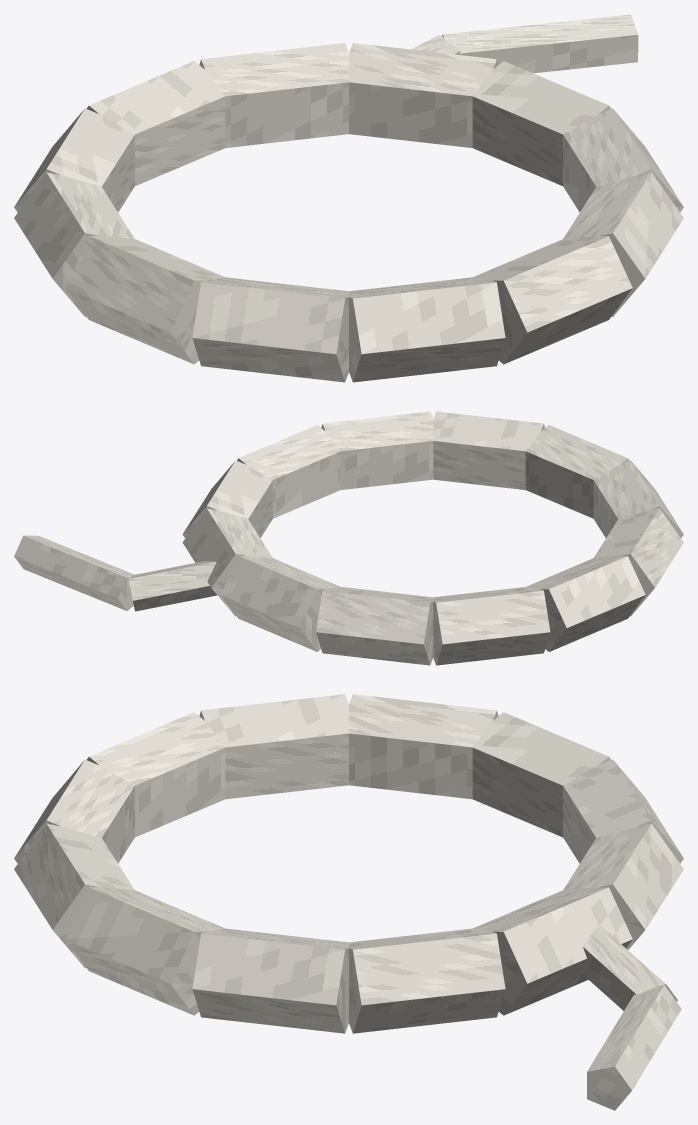
File: judo_belt_white.glb
3 renders of one model, top to bottom at view 1: azimuth 30°, elevation 25°; view 2: azimuth 150°, elevation 25°; view 3: azimuth 270°, elevation 25°, orthographic. The views are drawn at different scales.
Parts seen in each view (by area): view 1: block_rolled cloth sash3, block_rolled cloth sash4, block_rolled cloth sash9, block_rolled cloth sash10, block_rolled cloth sash2, block_rolled cloth sash5, block_rolled cloth sash8, block_rolled cloth sash11, block_free end 1, block_rolled cloth sash1, block_rolled cloth sash6, block_rolled cloth sash0 (+1 smaller); view 2: block_rolled cloth sash8, block_rolled cloth sash7, block_rolled cloth sash1, block_rolled cloth sash2, block_rolled cloth sash9, block_rolled cloth sash6, block_rolled cloth sash3, block_rolled cloth sash0, block_free end 1, block_rolled cloth sash5, block_rolled cloth sash10, block_rolled cloth sash4 (+2 smaller); view 3: block_rolled cloth sash0, block_rolled cloth sash11, block_rolled cloth sash5, block_rolled cloth sash6, block_rolled cloth sash1, block_rolled cloth sash10, block_rolled cloth sash4, block_rolled cloth sash7, block_rolled cloth sash2, block_rolled cloth sash9, block_free end 1, block_rolled cloth sash3 (+2 smaller).
Boxes of the visible parts, left/top/right/bottom form: block_rolled cloth sash3: left=349, top=277, right=505, bottom=382; block_rolled cloth sash4: left=192, top=277, right=348, bottom=382; block_rolled cloth sash9: left=199, top=43, right=348, bottom=147; block_rolled cloth sash10: left=349, top=43, right=498, bottom=147; block_rolled cloth sash2: left=473, top=236, right=632, bottom=364; block_rolled cloth sash5: left=65, top=236, right=224, bottom=364; block_rolled cloth sash8: left=86, top=61, right=225, bottom=185; block_rolled cloth sash11: left=472, top=61, right=611, bottom=185; block_free end 1: left=442, top=14, right=638, bottom=73; block_rolled cloth sash1: left=563, top=172, right=683, bottom=316; block_rolled cloth sash6: left=14, top=172, right=134, bottom=316; block_rolled cloth sash0: left=563, top=108, right=683, bottom=212; block_rolled cloth sash8: left=316, top=587, right=433, bottom=665; block_rolled cloth sash7: left=433, top=587, right=550, bottom=665; block_rolled cloth sash1: left=321, top=411, right=433, bottom=489; block_rolled cloth sash2: left=433, top=411, right=544, bottom=489; block_rolled cloth sash9: left=221, top=556, right=340, bottom=651; block_rolled cloth sash6: left=526, top=556, right=645, bottom=651; block_rolled cloth sash3: left=525, top=425, right=629, bottom=518; block_rolled cloth sash0: left=237, top=425, right=340, bottom=518; block_free end 1: left=14, top=535, right=134, bottom=610; block_rolled cloth sash5: left=594, top=508, right=683, bottom=616; block_rolled cloth sash10: left=182, top=508, right=272, bottom=616; block_rolled cloth sash4: left=593, top=460, right=683, bottom=537; block_rolled cloth sash0: left=192, top=928, right=348, bottom=1033; block_rolled cloth sash11: left=349, top=928, right=505, bottom=1033; block_rolled cloth sash5: left=199, top=694, right=348, bottom=799; block_rolled cloth sash6: left=349, top=694, right=498, bottom=799; block_rolled cloth sash1: left=65, top=887, right=224, bottom=1015; block_rolled cloth sash10: left=473, top=887, right=632, bottom=1015; block_rolled cloth sash4: left=86, top=712, right=225, bottom=837; block_rolled cloth sash7: left=472, top=712, right=611, bottom=837; block_rolled cloth sash2: left=14, top=823, right=134, bottom=968; block_rolled cloth sash9: left=563, top=823, right=683, bottom=949; block_free end 1: left=587, top=985, right=681, bottom=1110; block_rolled cloth sash3: left=14, top=759, right=134, bottom=863.
Bounding box in the file's own units: 0.1512 × 0.0177 × 0.1238.
1 material, 1 textured.
